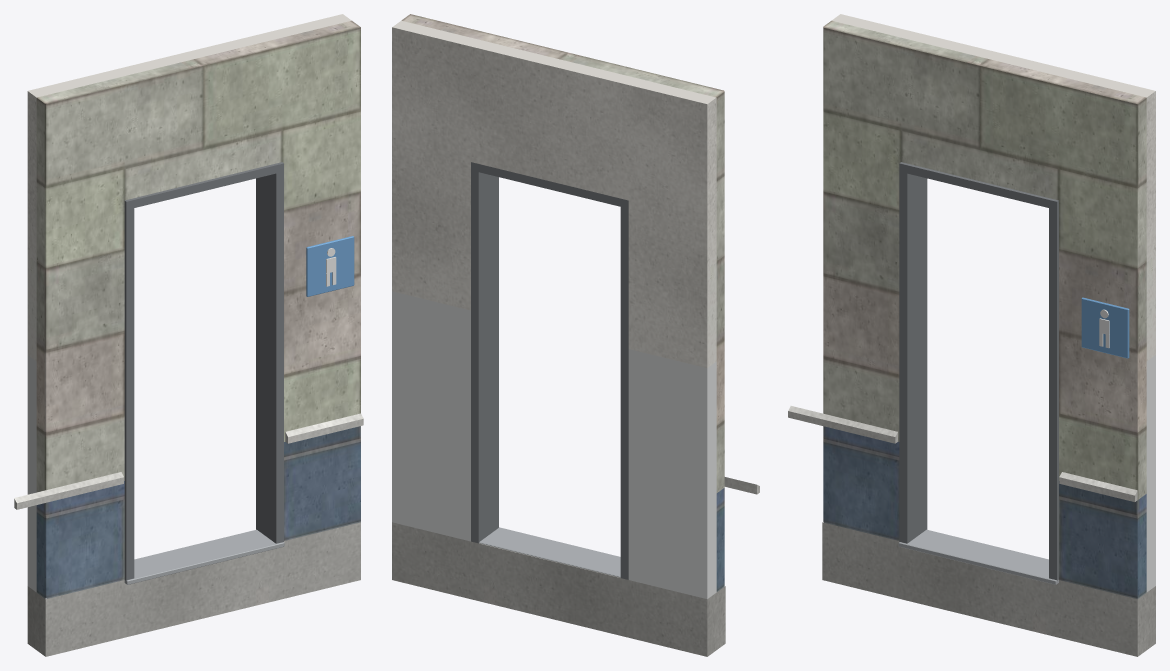
Rendered from r_door_m_ea.glb.
The picture shows the model from 3 angles, left to right: view 1: azimuth 30°, elevation 25°; view 2: azimuth 150°, elevation 25°; view 3: azimuth 330°, elevation 25°; orthographic projection.
Visible parts, largest first — view 1: r_door_m_ea_cmu, r_door_m_ea_concrete, r_door_m_ea_cmu2, r_door_m_ea_steel_d, r_door_m_ea_plaster, r_door_m_ea_steel, r_door_m_ea_coping, r_door_m_ea_paint_b, r_door_m_ea_tile; view 2: r_door_m_ea_plaster, r_door_m_ea_tile, r_door_m_ea_concrete, r_door_m_ea_steel_d, r_door_m_ea_cmu, r_door_m_ea_steel, r_door_m_ea_cmu2; view 3: r_door_m_ea_cmu, r_door_m_ea_concrete, r_door_m_ea_cmu2, r_door_m_ea_steel_d, r_door_m_ea_plaster, r_door_m_ea_steel, r_door_m_ea_coping, r_door_m_ea_tile, r_door_m_ea_paint_b.
Part boxes in pixels (<box>): r_door_m_ea_cmu: <box>36,20,360,492</box>; r_door_m_ea_concrete: <box>27,522,360,656</box>; r_door_m_ea_cmu2: <box>36,426,360,598</box>; r_door_m_ea_steel_d: <box>124,162,283,580</box>; r_door_m_ea_plaster: <box>27,14,351,361</box>; r_door_m_ea_steel: <box>124,529,284,584</box>; r_door_m_ea_coping: <box>14,413,363,509</box>; r_door_m_ea_paint_b: <box>306,236,354,296</box>; r_door_m_ea_tile: <box>27,355,36,592</box>; r_door_m_ea_plaster: <box>392,20,716,368</box>; r_door_m_ea_tile: <box>392,291,716,599</box>; r_door_m_ea_concrete: <box>392,522,725,656</box>; r_door_m_ea_steel_d: <box>471,162,628,579</box>; r_door_m_ea_cmu: <box>401,14,724,492</box>; r_door_m_ea_steel: <box>479,527,620,577</box>; r_door_m_ea_cmu2: <box>716,488,724,591</box>; r_door_m_ea_cmu: <box>823,20,1146,499</box>; r_door_m_ea_concrete: <box>822,522,1155,656</box>; r_door_m_ea_cmu2: <box>823,426,1146,598</box>; r_door_m_ea_steel_d: <box>899,162,1058,580</box>; r_door_m_ea_plaster: <box>832,14,1155,361</box>; r_door_m_ea_steel: <box>898,529,1058,584</box>; r_door_m_ea_coping: <box>788,406,1137,501</box>; r_door_m_ea_tile: <box>1146,355,1155,592</box>; r_door_m_ea_paint_b: <box>1081,297,1129,358</box>.
Size of the model in its own units: 2.2 by 3.35 by 0.23.
10 materials, 5 textured.
